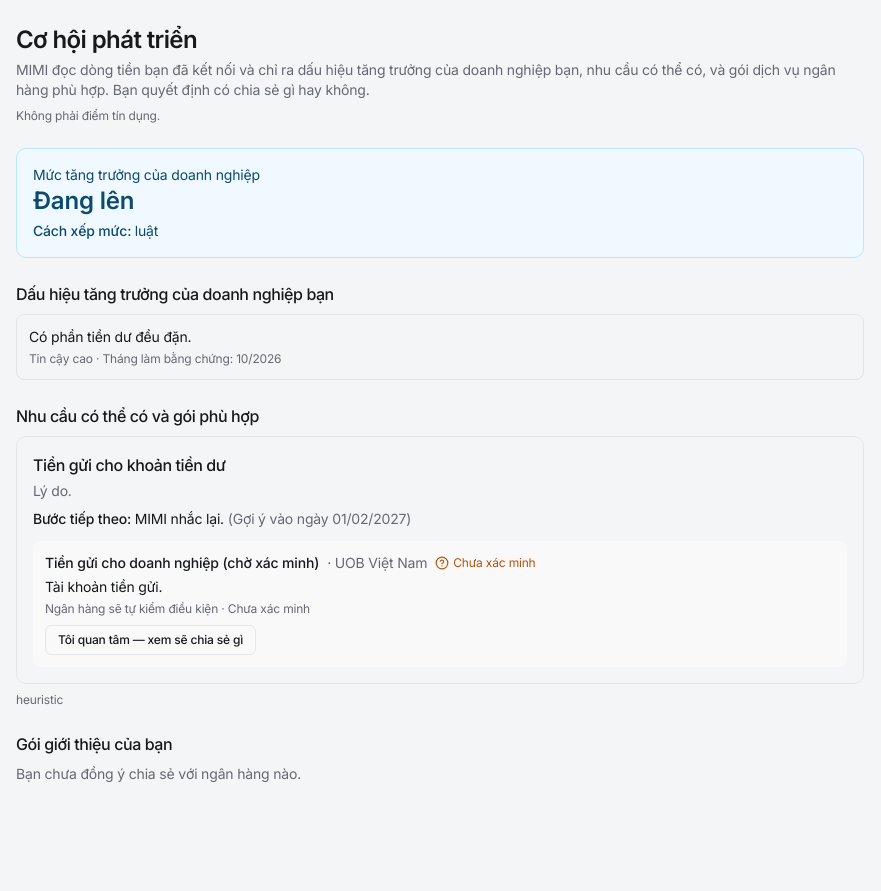
Test: CoHoiPage › hiện mức, dấu hiệu, gói chưa xác minh; đồng ý cần tích đã đọc, mặc định chỉ mức + nhu cầu
Later steps or results of the test are not shown.
expect the text "Đang lên" is shown: met, box [33, 186, 134, 215]
expect the text "Có phần tiền dư đều đặn." is shown: met, box [29, 328, 192, 345]
Click the button "Tôi quan tâm — xem sẽ chia sẻ gì" at [150, 640], box [45, 625, 256, 655]
(page scrolled)
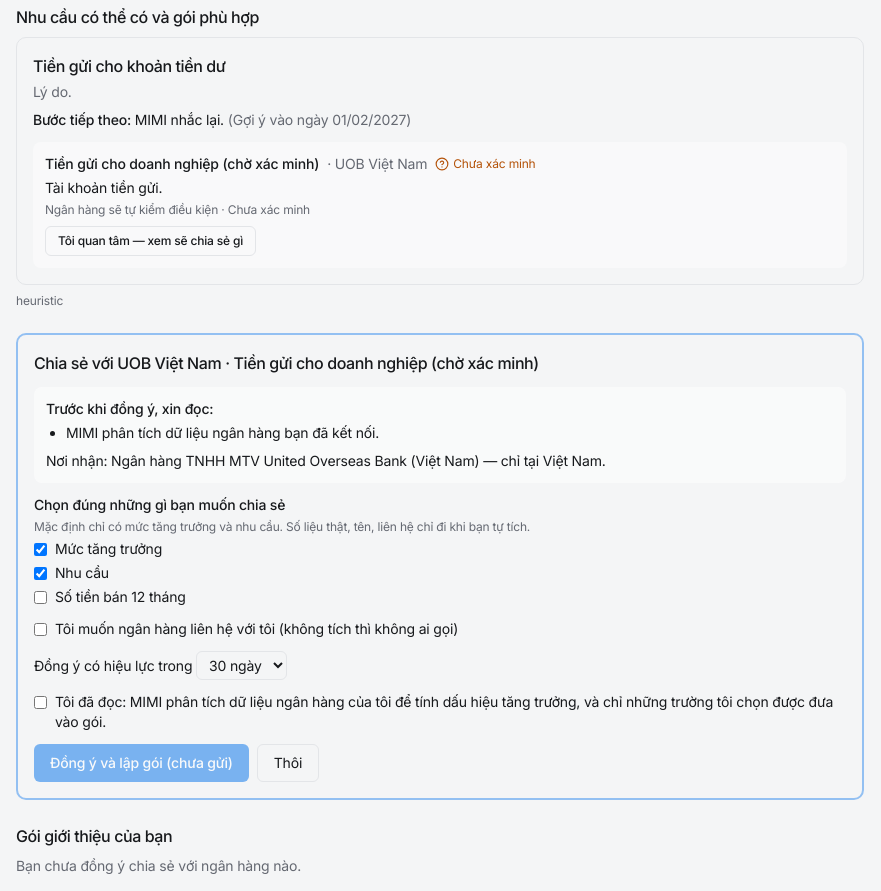
expect the list item "MIMI phân tích dữ liệu ngân hàng bạn đã kết nối." is shown: met, box [66, 424, 379, 441]
expect the checkbox labelled "Mức tăng trưởng" is checked: met, box [34, 542, 47, 556]
expect the checkbox labelled "Số tiền bán 12 tháng" is not checked: met, box [34, 590, 47, 604]
